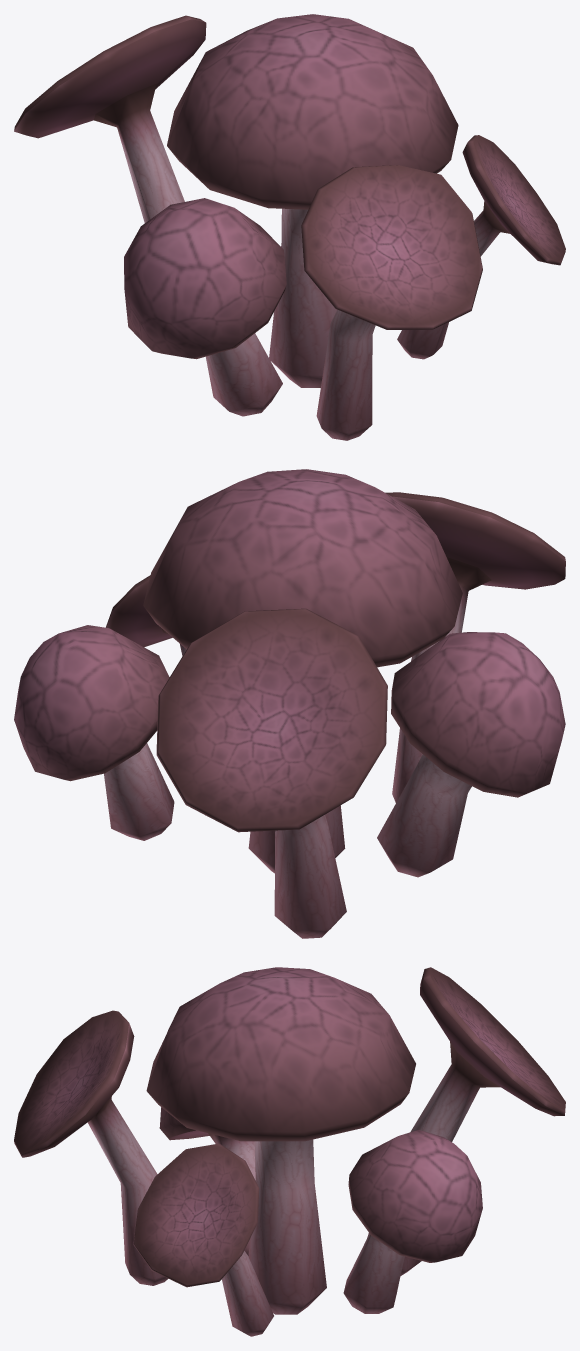
Rendered from Prop_Mushrooms_02.FBX.
3 renders of one model, top to bottom at view 1: azimuth 30°, elevation 25°; view 2: azimuth 150°, elevation 25°; view 3: azimuth 270°, elevation 25°, orthographic. The views are drawn at different scales.
Parts seen in each view (by area): view 1: Prop_Mushrooms_02; view 2: Prop_Mushrooms_02; view 3: Prop_Mushrooms_02.
Part boxes in pixels (bbox=[...]): Prop_Mushrooms_02: bbox=[14, 14, 565, 440]; Prop_Mushrooms_02: bbox=[14, 469, 565, 938]; Prop_Mushrooms_02: bbox=[14, 967, 565, 1336].
Bounding box in the file's own units: 3.42 × 2.79 × 4.27.
